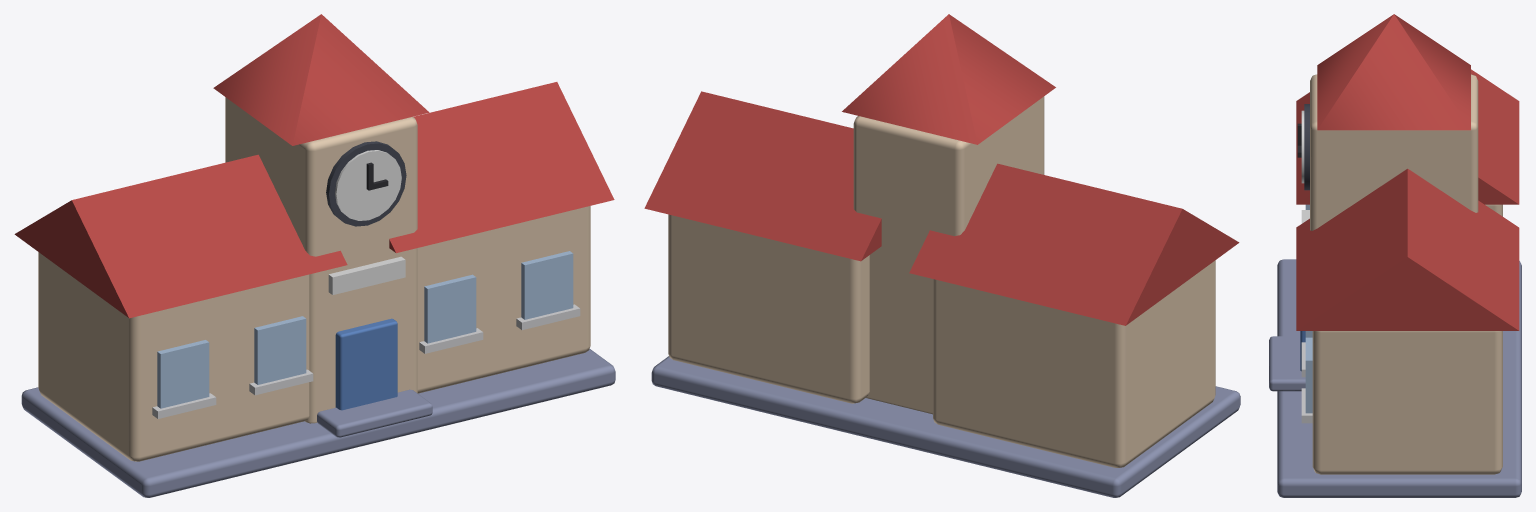
The model's file is escola.glb.
3 renders of one model, left to right at view 1: azimuth 30°, elevation 25°; view 2: azimuth 150°, elevation 25°; view 3: azimuth 270°, elevation 25°, orthographic. The views are drawn at different scales.
Visible parts, largest first — view 1: modelo; view 2: modelo; view 3: modelo.
Boxes of the visible parts, x1=… form: modelo: x1=14, y1=14, x2=615, y2=497; modelo: x1=644, y1=14, x2=1240, y2=497; modelo: x1=1269, y1=14, x2=1521, y2=497.
Bounding box in the file's own units: 3.15 × 2.39 × 1.46.
